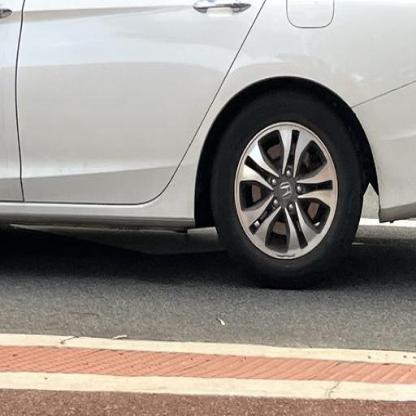Tire: (212, 89, 364, 291)
